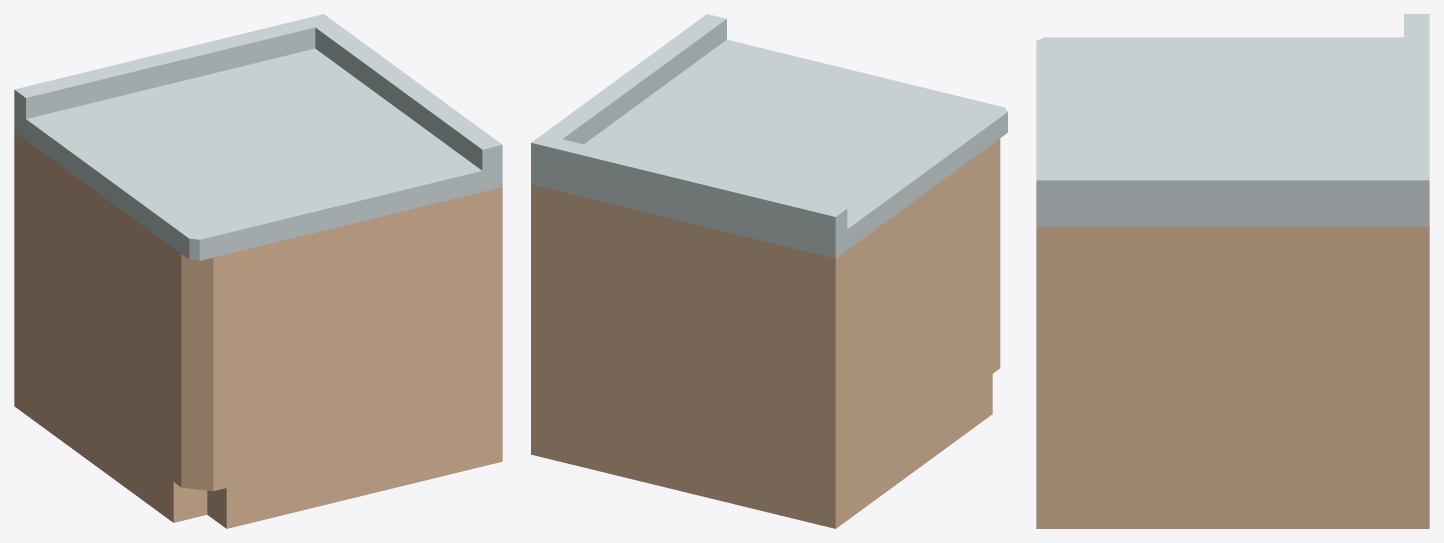
Rendered from kitchenCabinetCornerInner.glb.
The picture shows the model from 3 angles, left to right: view 1: azimuth 30°, elevation 25°; view 2: azimuth 150°, elevation 25°; view 3: azimuth 270°, elevation 25°; orthographic projection. The views are drawn at different scales.
Visible parts, largest first — view 1: kitchenCabinetCornerInner(Clone); view 2: kitchenCabinetCornerInner(Clone); view 3: kitchenCabinetCornerInner(Clone).
Part boxes in pixels (x1=…): kitchenCabinetCornerInner(Clone): x1=14, y1=14, x2=502, y2=528; kitchenCabinetCornerInner(Clone): x1=531, y1=14, x2=1007, y2=528; kitchenCabinetCornerInner(Clone): x1=1036, y1=14, x2=1429, y2=528.
Size of the model in its own units: 0.9338 by 0.9135 by 0.9338.
2 materials, 2 textured.
